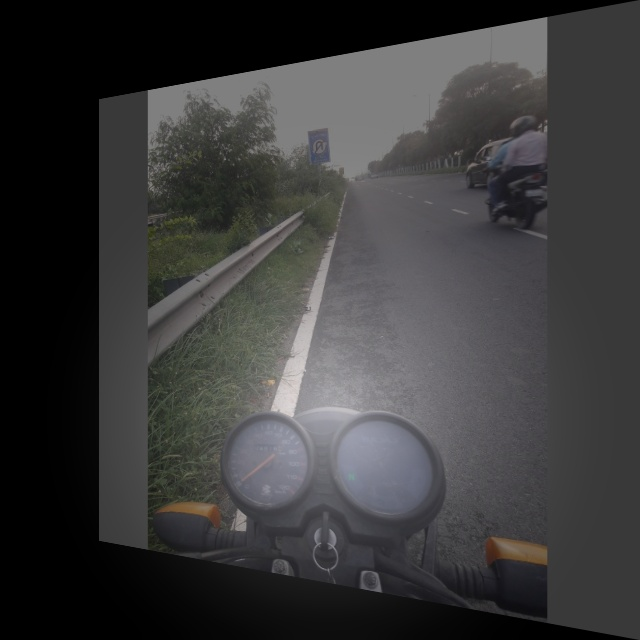U_Turn_Prohibited: (309, 130, 331, 162)
